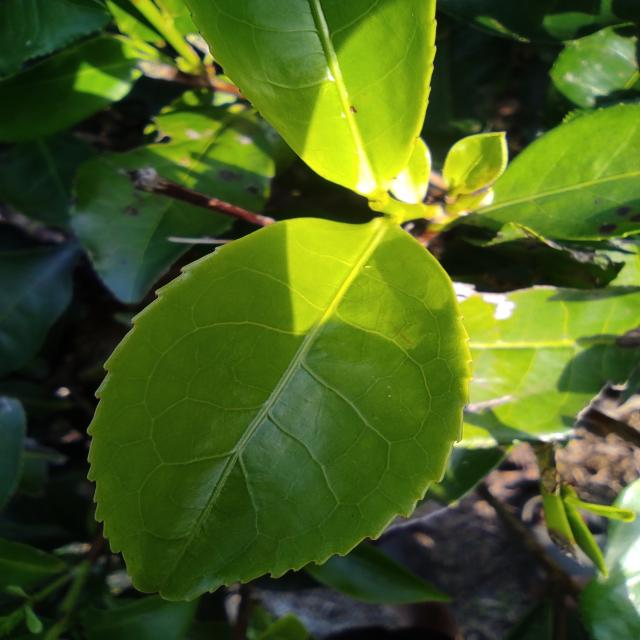Category B(2-4 days): (71, 195, 479, 614)
